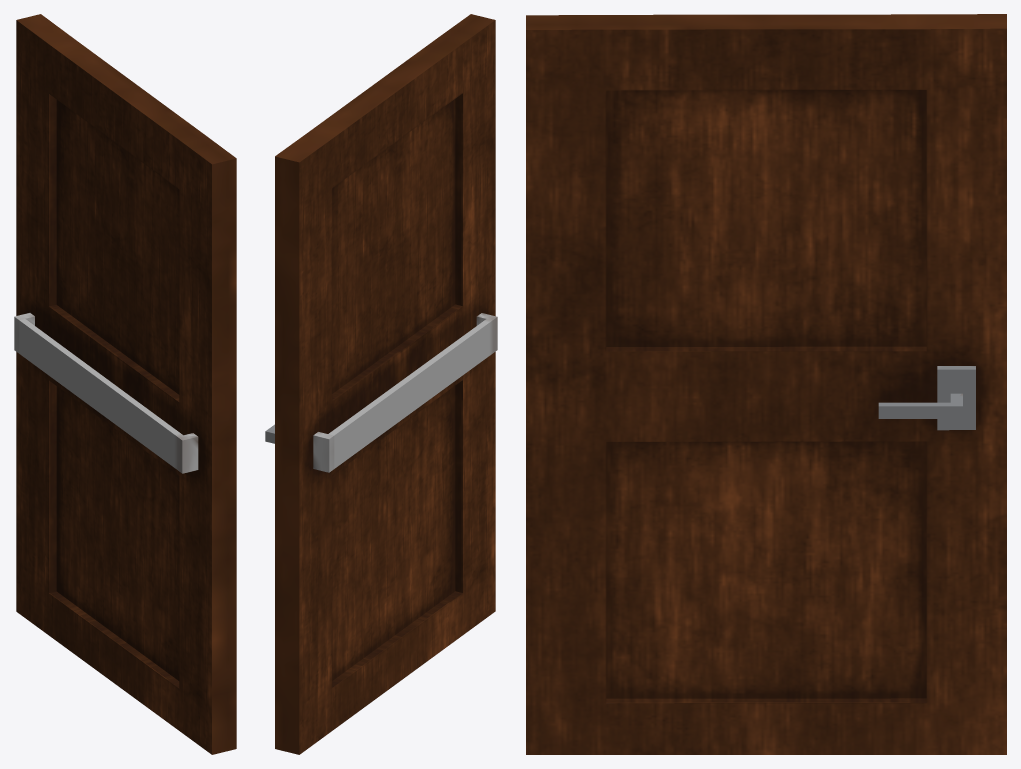
Rendered from porta_piccola.001.fbx.
3 views of the same model, side by side, from view 1: azimuth 30°, elevation 25°; view 2: azimuth 150°, elevation 25°; view 3: azimuth 270°, elevation 25° (orthographic). The views are drawn at different scales.
Parts seen in each view (by area): view 1: porta_piccola.001; view 2: porta_piccola.001; view 3: porta_piccola.001.
Boxes of the visible parts, left/top/right/bottom form: porta_piccola.001: left=14, top=14, right=236, bottom=754; porta_piccola.001: left=265, top=14, right=497, bottom=754; porta_piccola.001: left=526, top=14, right=1006, bottom=754.
Bounding box in the file's own units: 24 × 200 × 120.
